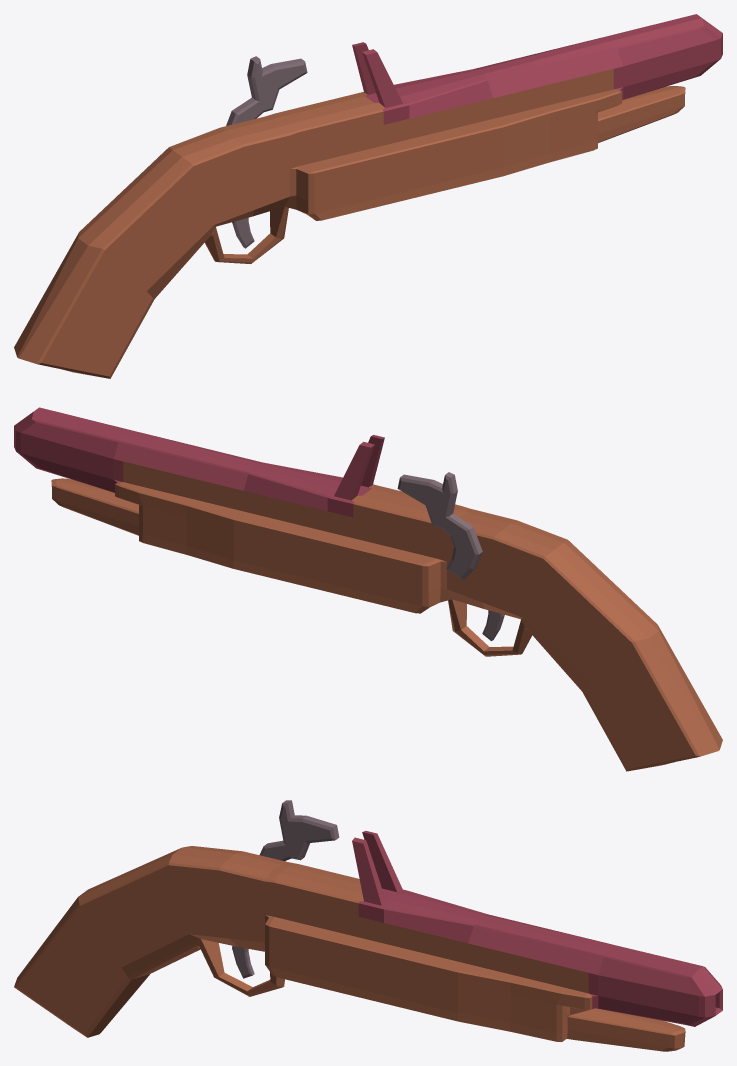
The model's file is gun_2.fbx.
3 renders of one model, top to bottom at view 1: azimuth 30°, elevation 25°; view 2: azimuth 150°, elevation 25°; view 3: azimuth 330°, elevation 25°, orthographic.
Visible parts, largest first — view 1: gun.001, Plane.001; view 2: gun.001, Plane.001; view 3: gun.001, Plane.001, Plane.005.
Boxes of the visible parts, box(x1,y1,x2,y2) form: gun.001: box(14, 14, 722, 378); Plane.001: box(226, 56, 307, 125); gun.001: box(14, 407, 722, 771); Plane.001: box(397, 472, 482, 579); gun.001: box(14, 831, 722, 1051); Plane.001: box(259, 800, 339, 861); Plane.005: box(232, 946, 254, 978).
Bounding box in the file's own units: 79.11 × 28.32 × 8.93.
